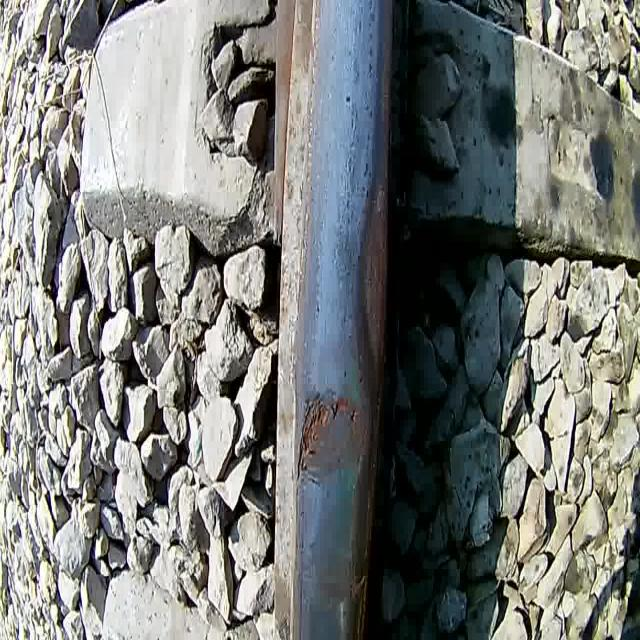Squats: (296, 385, 375, 495)
